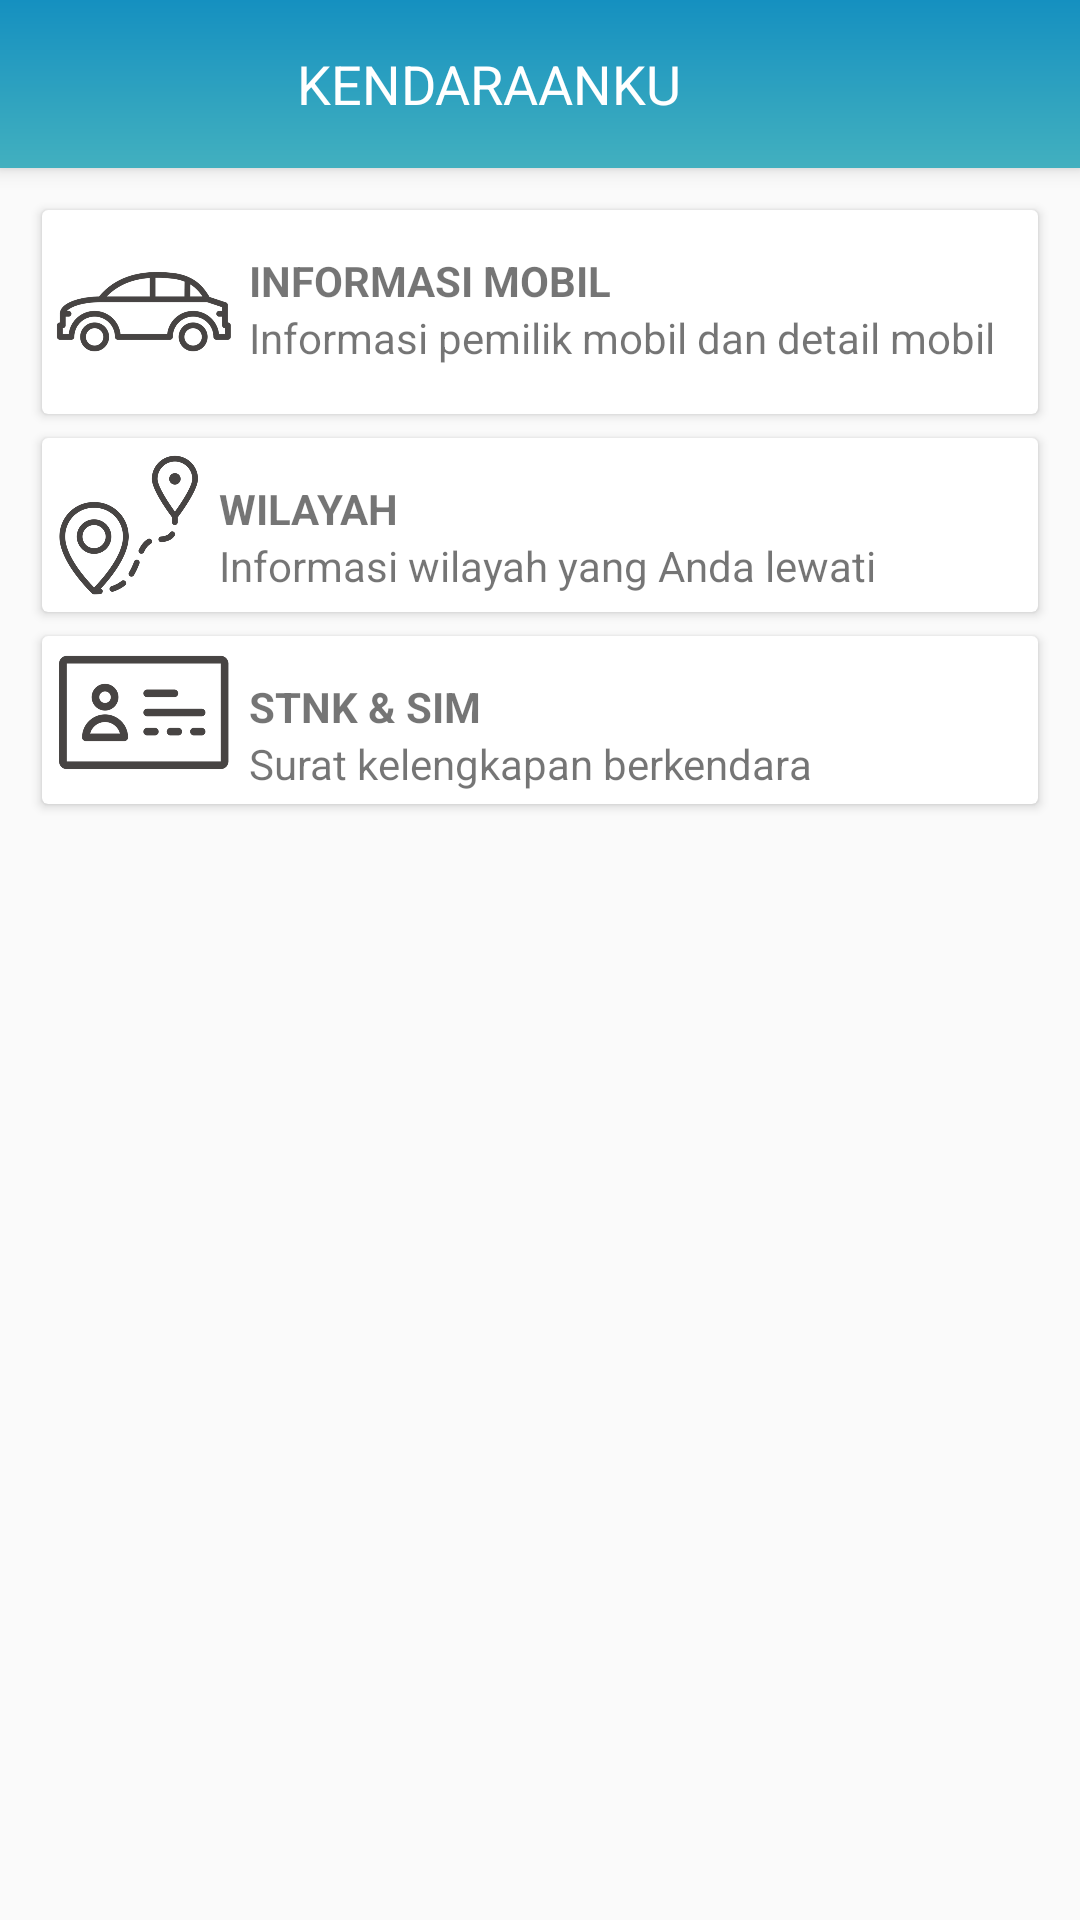

Screen size 1080px×1920px. Icon name, then its center in pixels as [x,y]:
car: [144,312]
